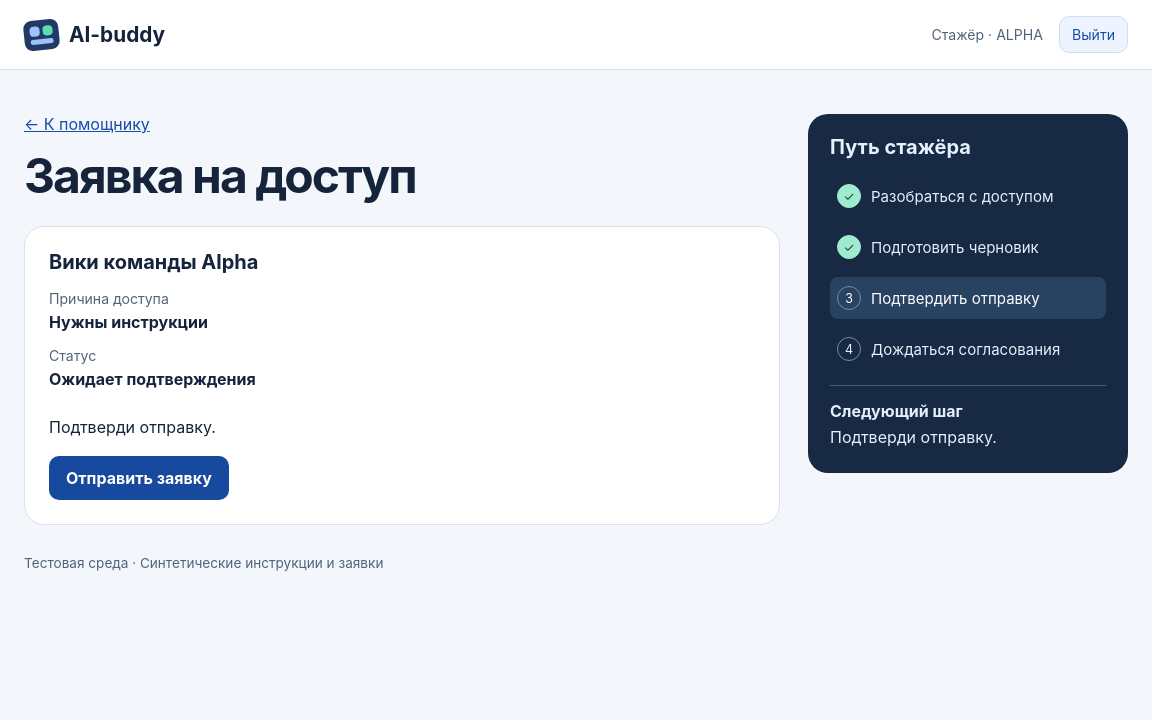
AI-buddy › shows waiting, service failure and the preserved ID on retry
The width and height of the screenshot is (1152, 720).
Later steps or results of the test are not shown.
Click the button "Отправить заявку".
click(139, 478)  # box [49,456,229,500]
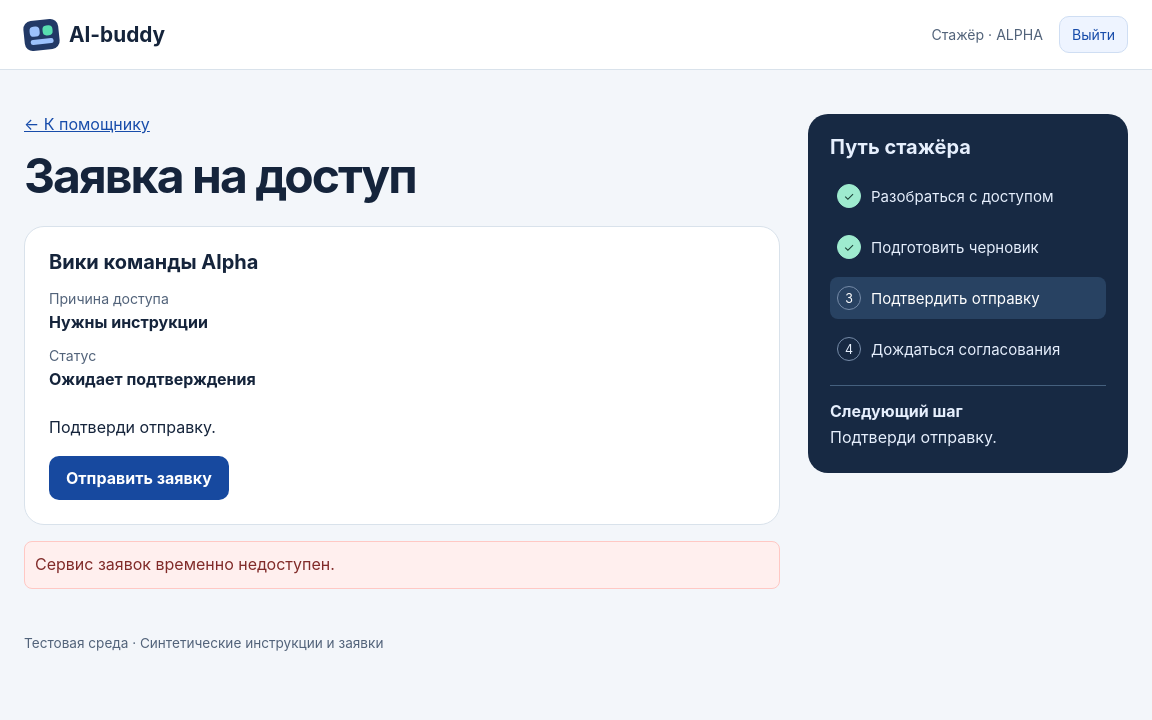
Expected: the message shows "недоступен", [35,554,335,574]
Click the button "Отправить заявку".
click(139, 478)  # box [49,456,229,500]
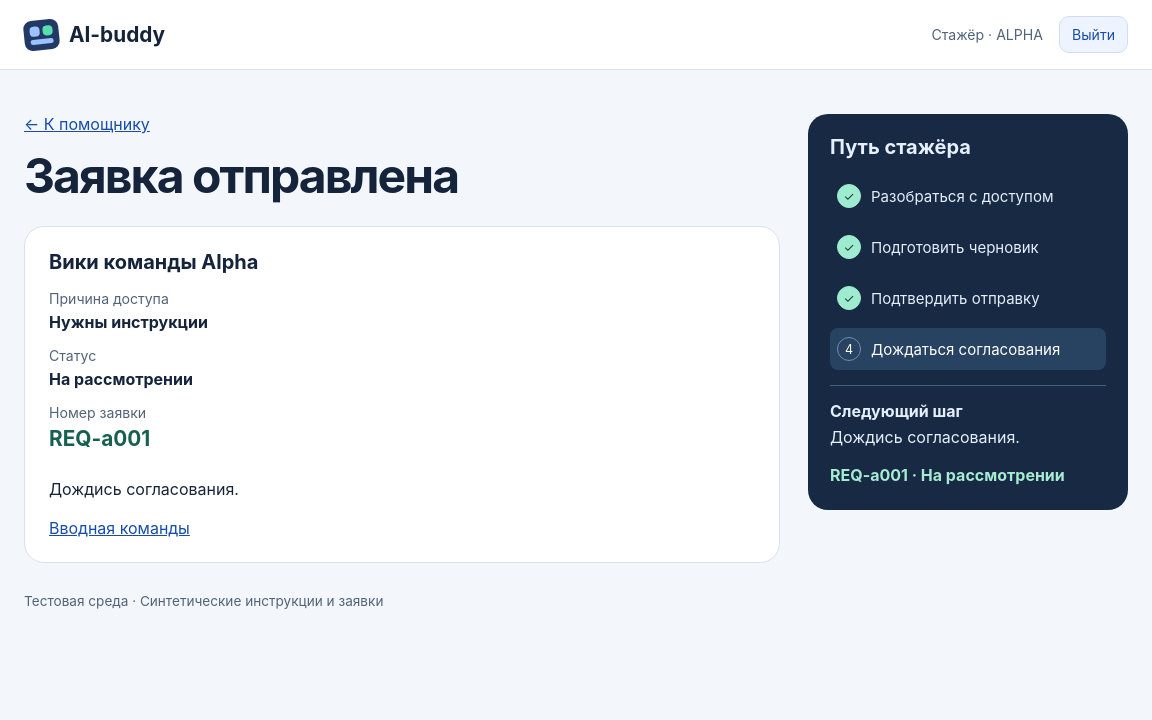
Expected: the heading "Заявка отправлена" is shown, [24,146,458,205]
Expected: the text "REQ-a001" is shown, [49,426,150,451]
Click the button "Вводная команды".
click(119, 528)  # box [49,518,190,538]
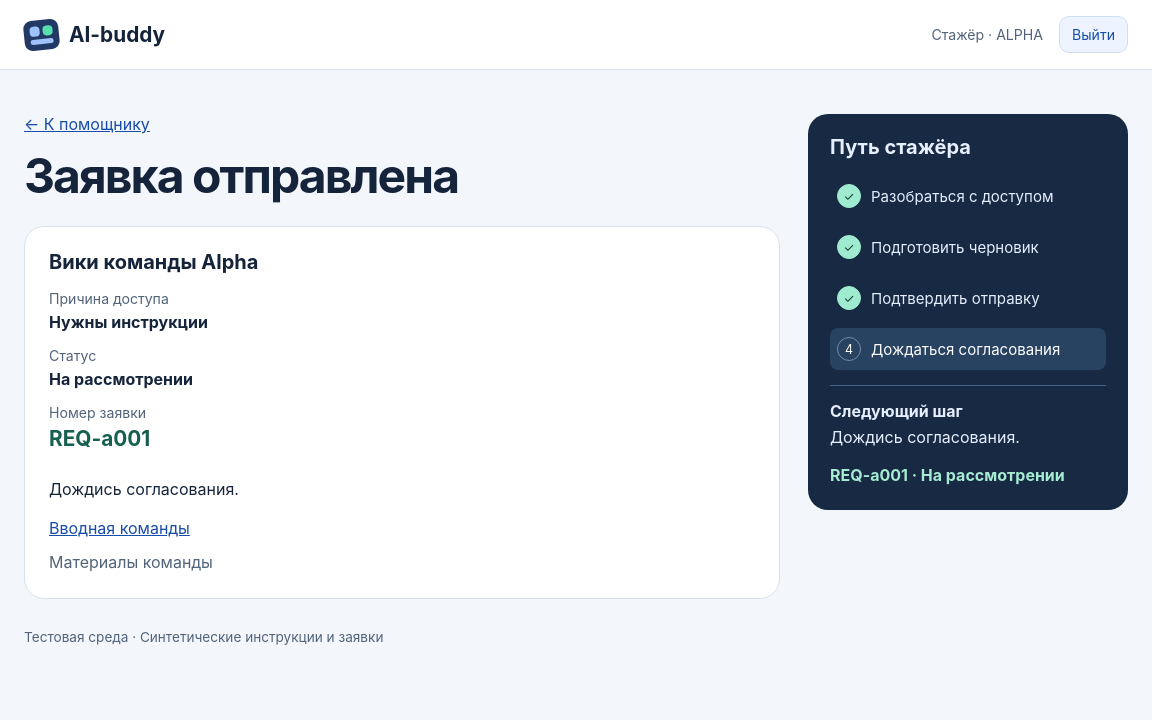
Expected: the text "Материалы команды" is shown, [49,552,213,572]
